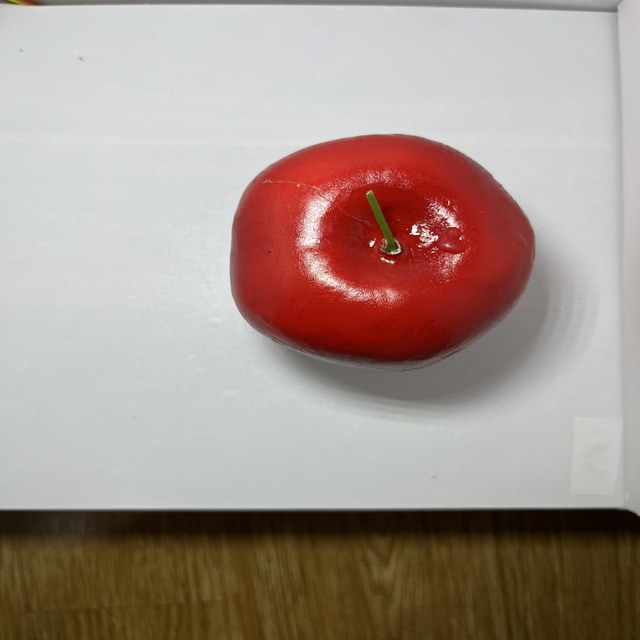Tao: (231, 130, 536, 377)
